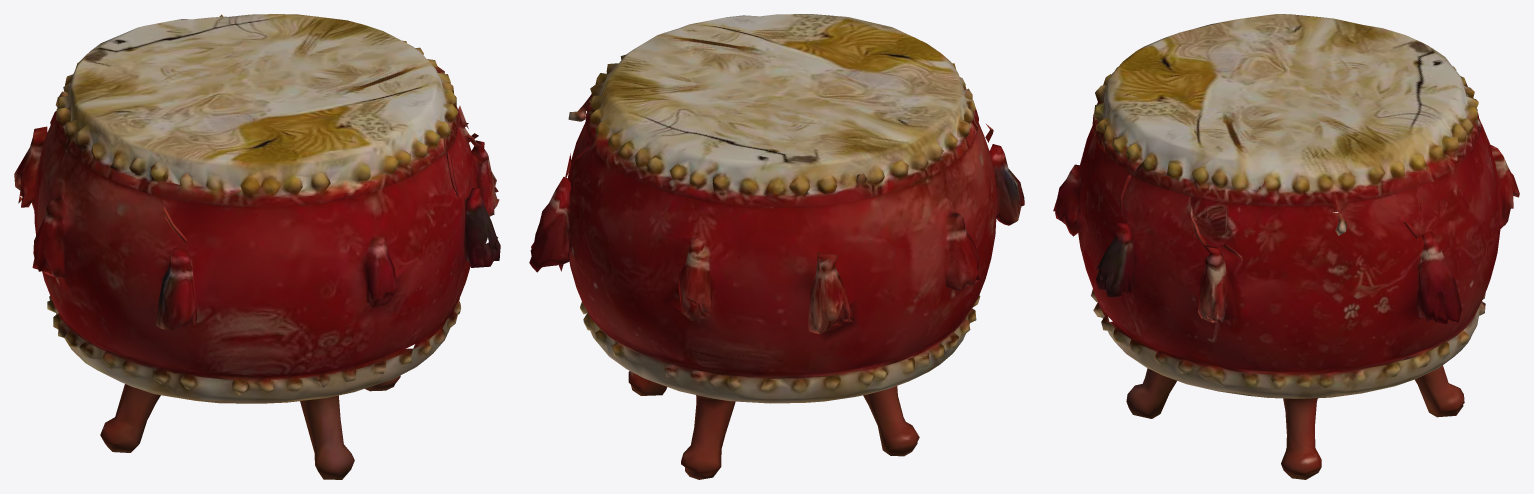
File: xiudun.glb
3 renders of one model, left to right at view 1: azimuth 30°, elevation 25°; view 2: azimuth 150°, elevation 25°; view 3: azimuth 270°, elevation 25°, orthographic. The views are drawn at different scales.
Visible parts, largest first — view 1: tripo_node_3e92a2cf-5fbd-40cf-9dc8-7bdb7da63430; view 2: tripo_node_3e92a2cf-5fbd-40cf-9dc8-7bdb7da63430; view 3: tripo_node_3e92a2cf-5fbd-40cf-9dc8-7bdb7da63430.
Boxes of the visible parts, x1,y1,x2,y2 form: tripo_node_3e92a2cf-5fbd-40cf-9dc8-7bdb7da63430: (14,14,500,479); tripo_node_3e92a2cf-5fbd-40cf-9dc8-7bdb7da63430: (529,14,1024,479); tripo_node_3e92a2cf-5fbd-40cf-9dc8-7bdb7da63430: (1053,14,1519,479).
Size of the model in its own units: 1.29 by 1 by 1.3.
1 material, 1 textured.
